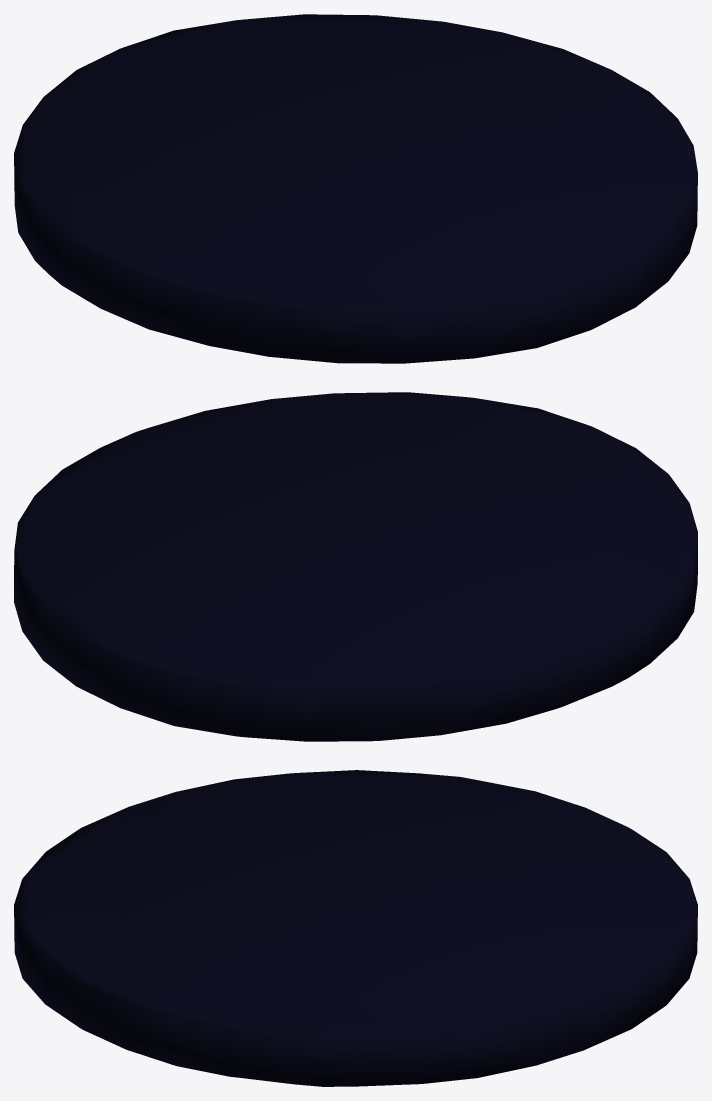
File: Water.fbx
The picture shows the model from 3 angles, top to bottom: view 1: azimuth 30°, elevation 25°; view 2: azimuth 150°, elevation 25°; view 3: azimuth 270°, elevation 25°; orthographic projection. The views are drawn at different scales.
Parts seen in each view (by area): view 1: water; view 2: water; view 3: water.
Part boxes in pixels (x1,y1,x2,y2): water: [14, 14, 697, 363]; water: [14, 392, 697, 741]; water: [14, 770, 697, 1086].
Size of the model in its own units: 49586 by 4533 by 53207.
1 material, 1 textured.
